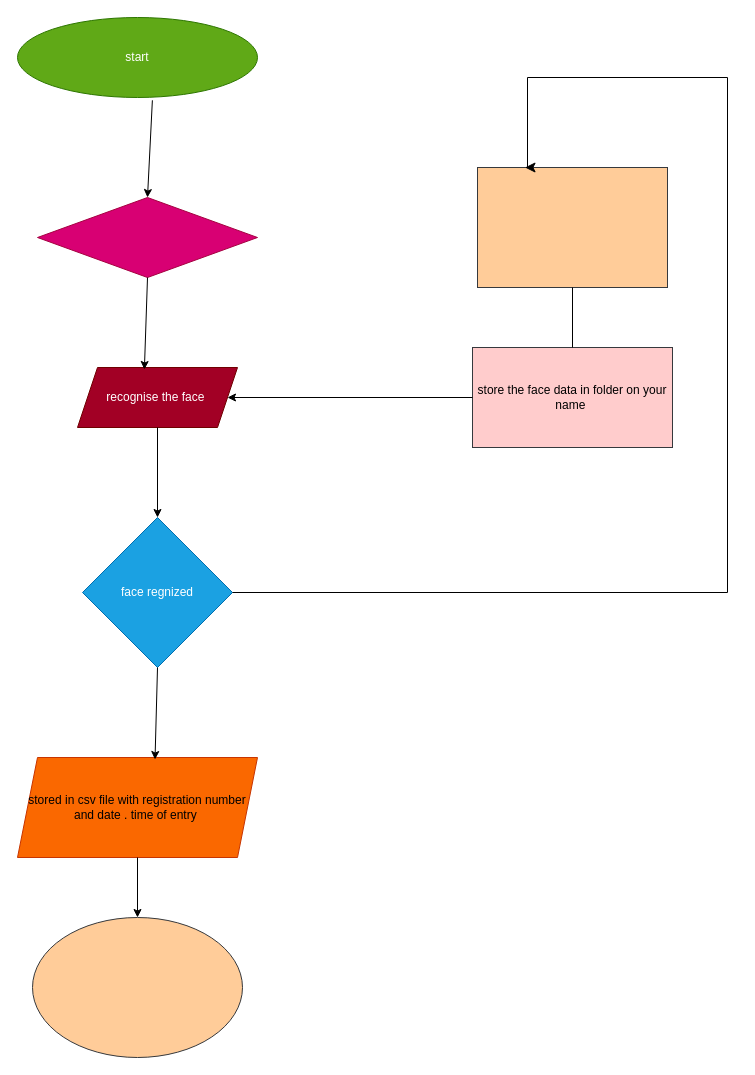
This 755x1075 diagram has some shape labels left out. Each missing label, with the centre of its shape:
"end" goes at (137,987).
"give your photography" goes at (572,227).
"new user ?" goes at (147,237).
